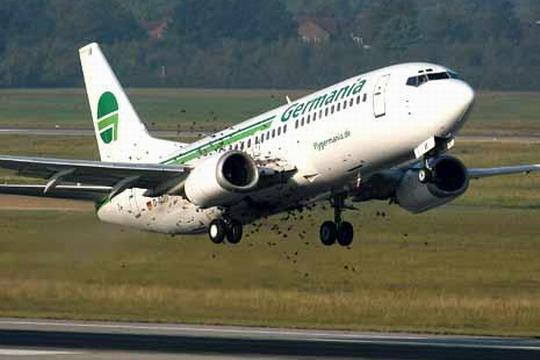airplane: (1, 41, 531, 241)
